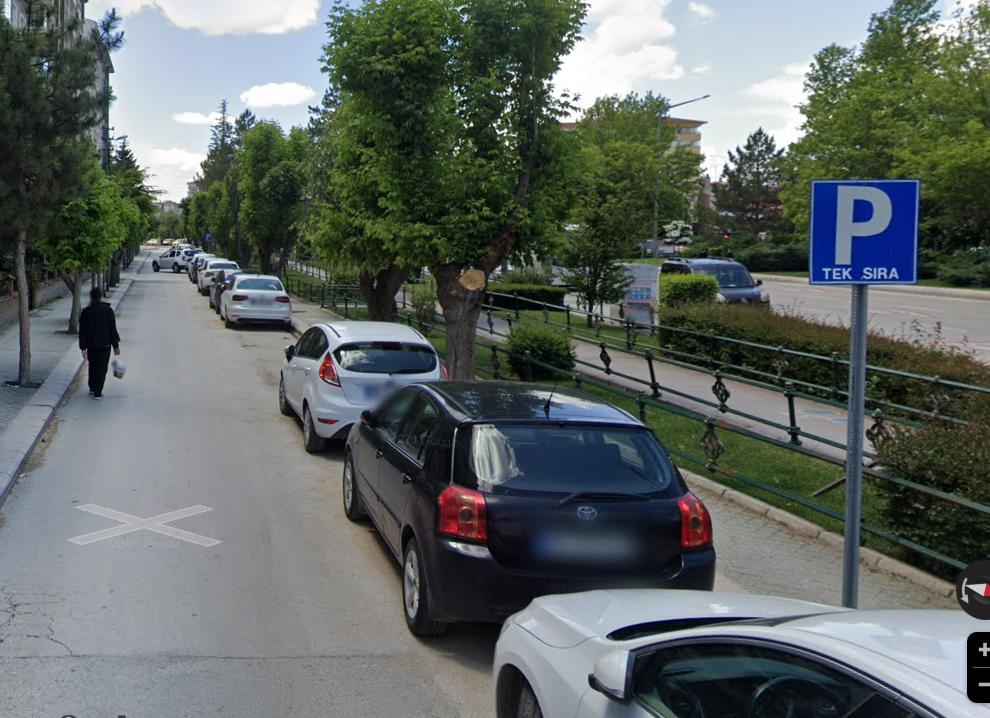park: (811, 180, 918, 283)
